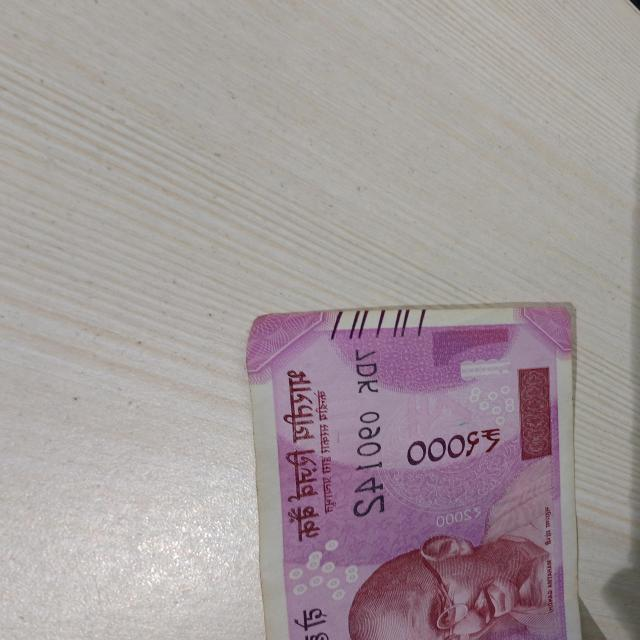Currency: (254, 302, 601, 640)
